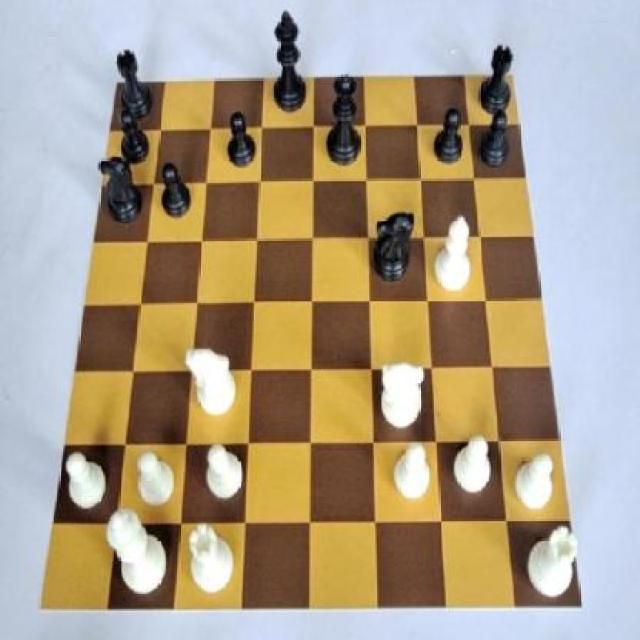black-bishop: (265, 9, 317, 127)
black-king: (368, 208, 424, 292), (94, 152, 146, 233)
black-knight: (155, 160, 198, 231), (474, 108, 514, 175), (111, 106, 148, 170), (225, 108, 260, 174), (431, 105, 467, 169)
black-pawn: (322, 71, 368, 171)
black-queen: (109, 44, 164, 124), (474, 41, 520, 117)
black-rook: (429, 209, 485, 302)
white-bishop: (105, 506, 173, 604)
white-king: (182, 343, 242, 429), (372, 360, 433, 438)
white-knight: (451, 431, 502, 505), (59, 448, 112, 517), (200, 443, 251, 511), (511, 445, 558, 517), (132, 446, 182, 512), (391, 439, 435, 506)
white-queen: (525, 518, 582, 600), (183, 526, 240, 602)
